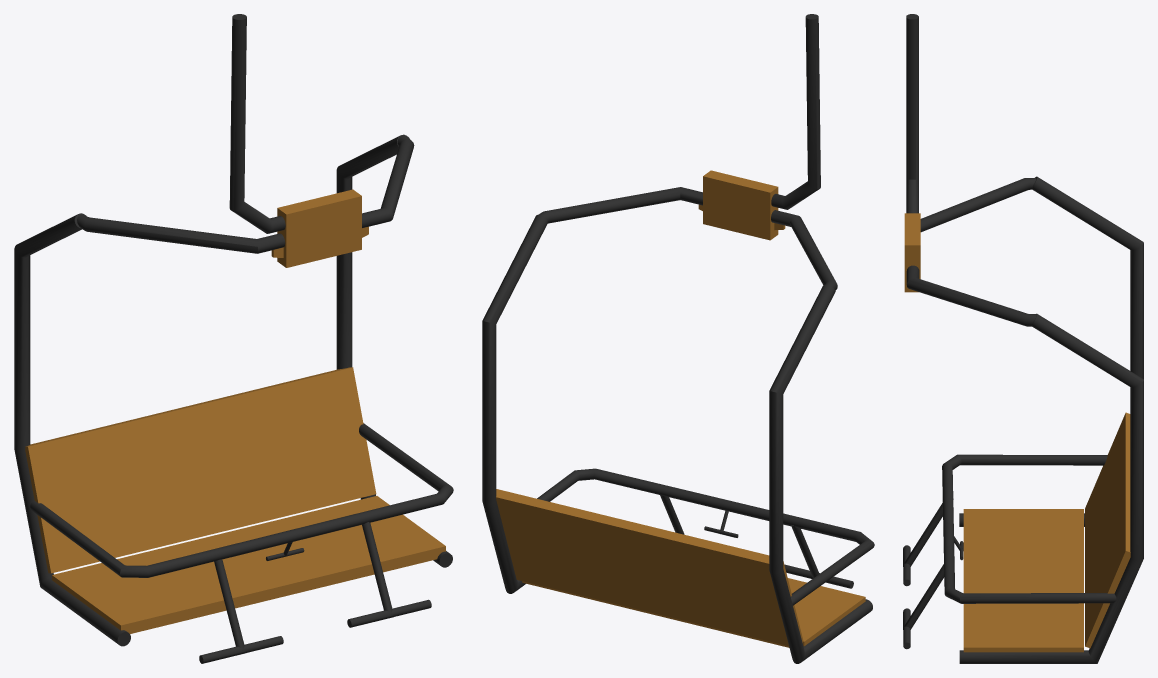
Rendered from venue-chairlift.glb.
The picture shows the model from 3 angles, left to right: view 1: azimuth 30°, elevation 25°; view 2: azimuth 150°, elevation 25°; view 3: azimuth 270°, elevation 25°; orthographic projection. The views are drawn at different scales.
Parts seen in each view (by area): view 1: Object_4, Object_5; view 2: Object_4, Object_5; view 3: Object_4, Object_5.
Part boxes in pixels (x1,y1,x2,y2): Object_4: (25, 189, 445, 633); Object_5: (14, 14, 453, 663); Object_4: (496, 170, 865, 647); Object_5: (482, 14, 874, 663); Object_4: (904, 213, 1130, 652); Object_5: (903, 14, 1143, 663).
Size of the model in its own units: 45.45 by 81.92 by 32.33.
